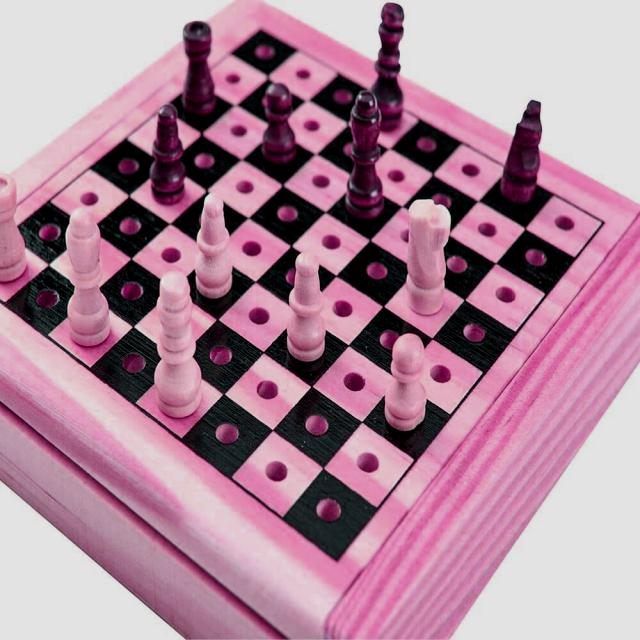chessboard: (0, 30, 606, 565)
